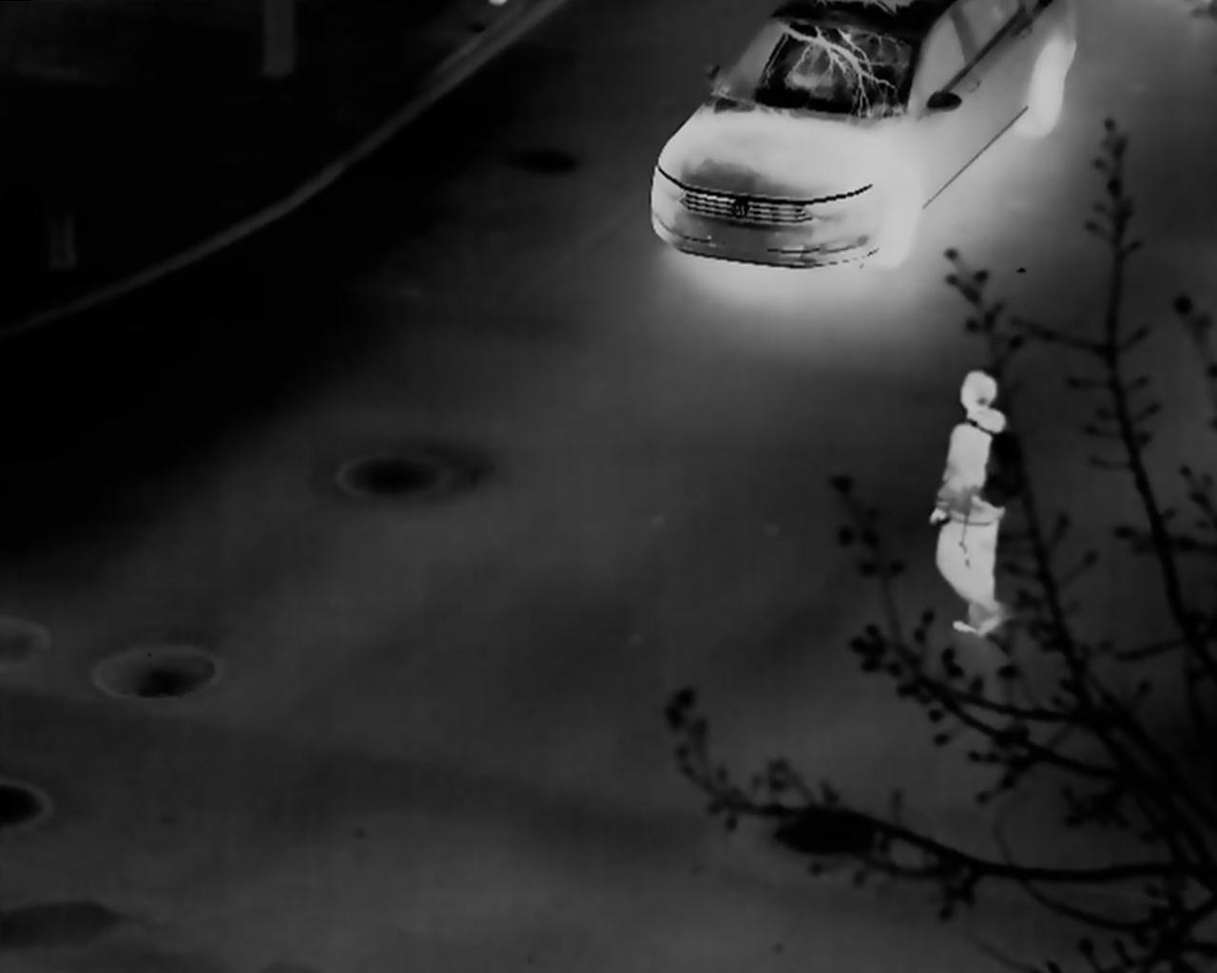person: (927, 367, 1020, 639)
